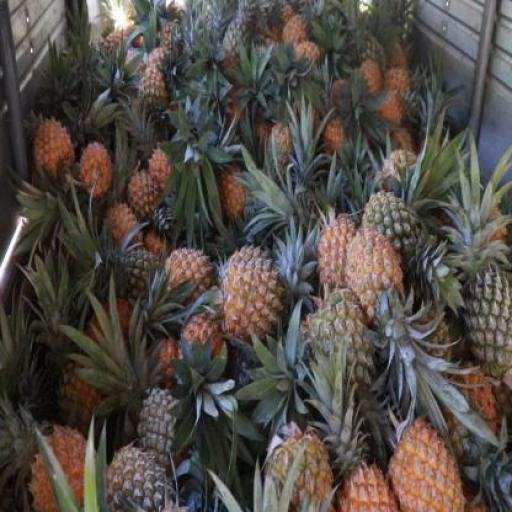------------------------------: (304, 296, 373, 396), (363, 191, 427, 290), (59, 362, 110, 437), (139, 69, 171, 127)
Pineapple - v8 v1: (389, 423, 469, 511), (30, 424, 105, 511), (345, 229, 408, 331), (220, 246, 283, 341), (316, 216, 366, 305), (180, 316, 225, 394), (166, 249, 209, 306), (34, 119, 72, 180), (130, 171, 168, 218), (80, 141, 110, 200)
